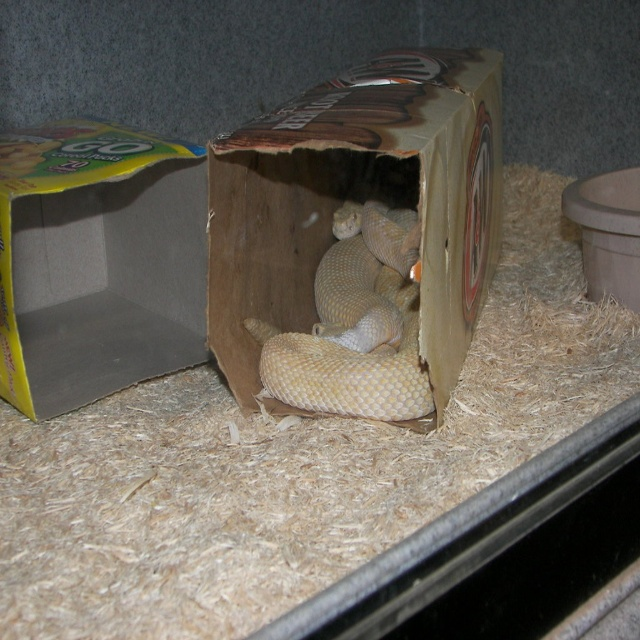Snake: (248, 203, 465, 414)
